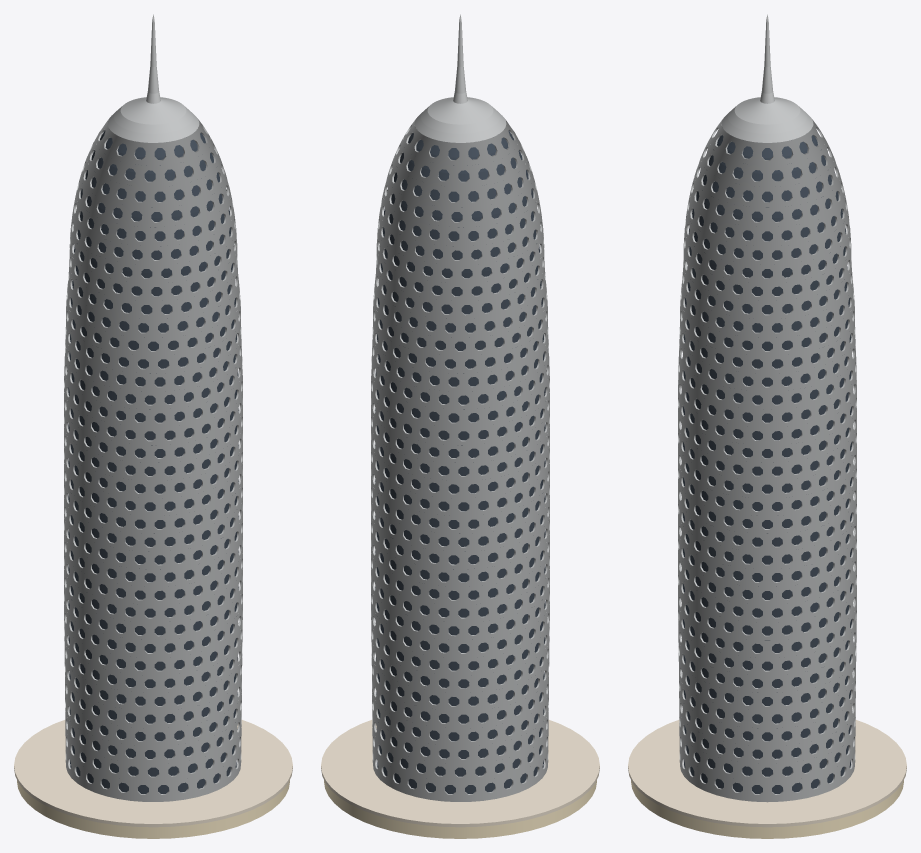
File: doha-tower.detail.glb
The picture shows the model from 3 angles, left to right: view 1: azimuth 30°, elevation 25°; view 2: azimuth 150°, elevation 25°; view 3: azimuth 270°, elevation 25°; orthographic projection.
Parts seen in each view (by area): view 1: Doha Tower; view 2: Doha Tower; view 3: Doha Tower.
Part boxes in pixels (x1,y1,x2,y2): Doha Tower: [14, 14, 292, 838]; Doha Tower: [321, 14, 599, 838]; Doha Tower: [628, 14, 906, 838].
Size of the model in its own units: 78.4 by 238 by 78.4.
